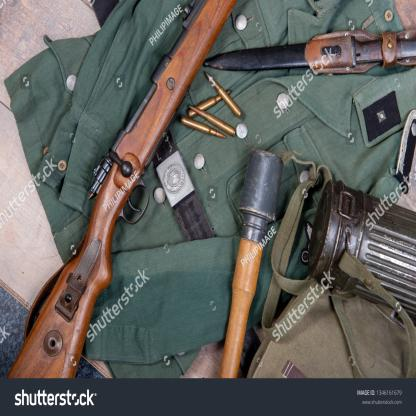Grenade: (219, 147, 284, 378)
Gun: (7, 0, 238, 378)
Knife: (203, 27, 416, 76)
